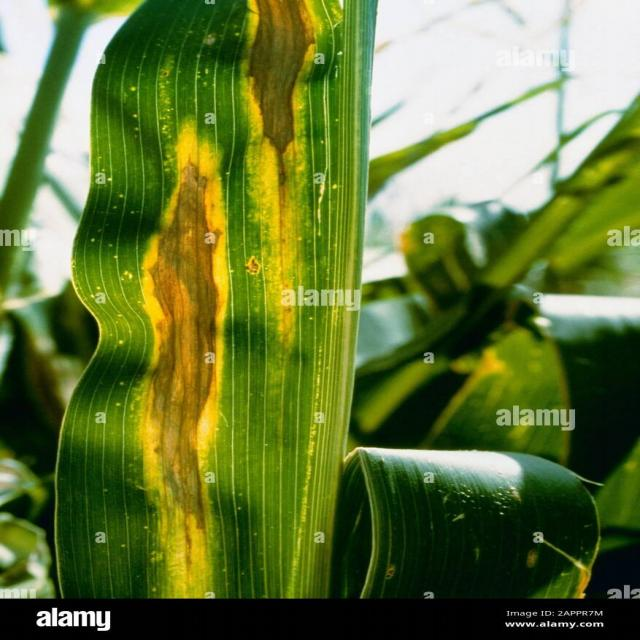blight: (129, 86, 256, 554), (210, 0, 348, 168)
